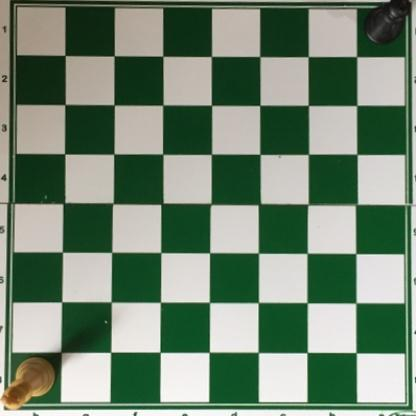black-king: (361, 0, 413, 47)
white-king: (0, 355, 56, 411)
